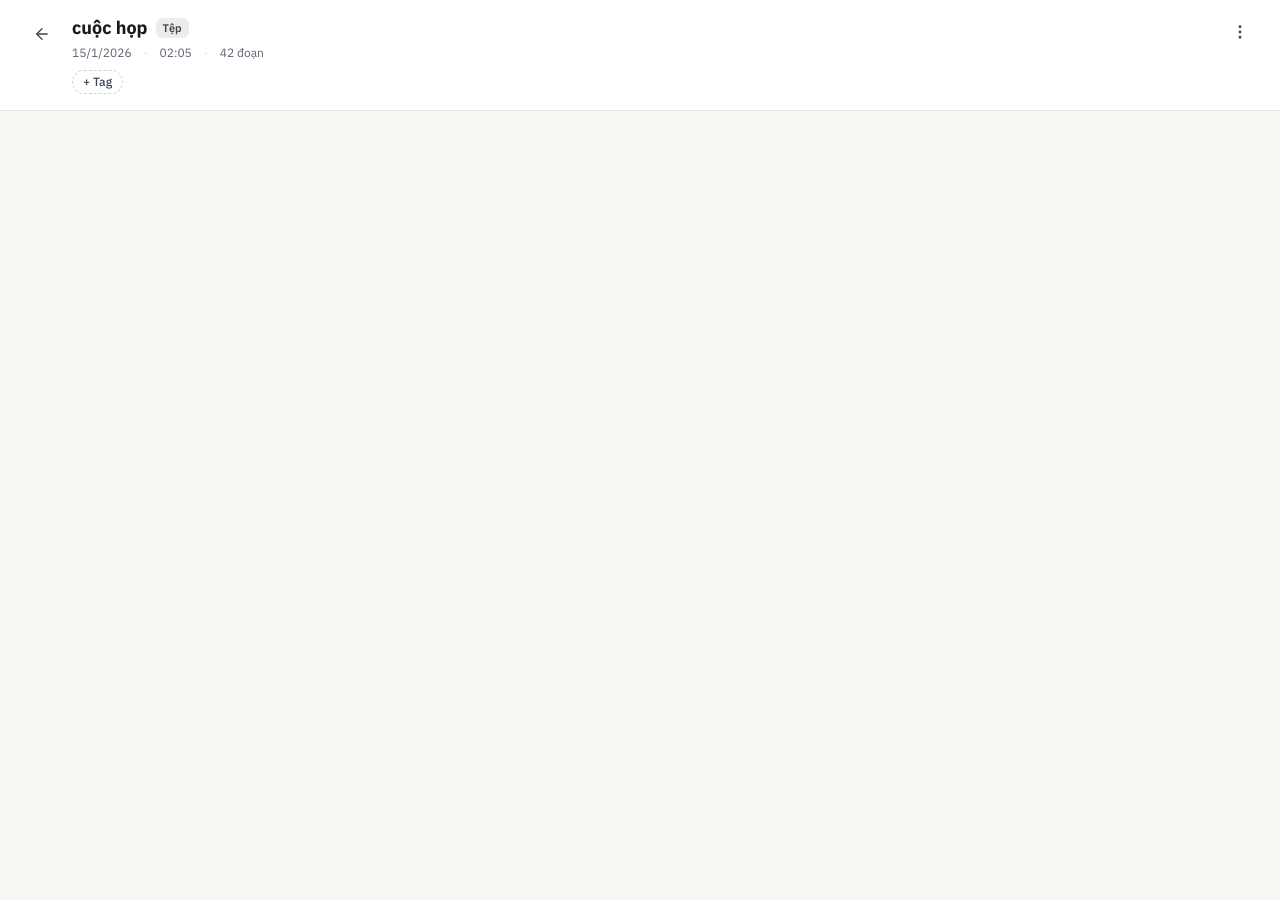
Test: SessionHeader › tags (story 3.2) › clicking "+ Tag" opens the tag picker in assign mode
Click the button "+ Tag": (98, 82) [72,70,123,94]
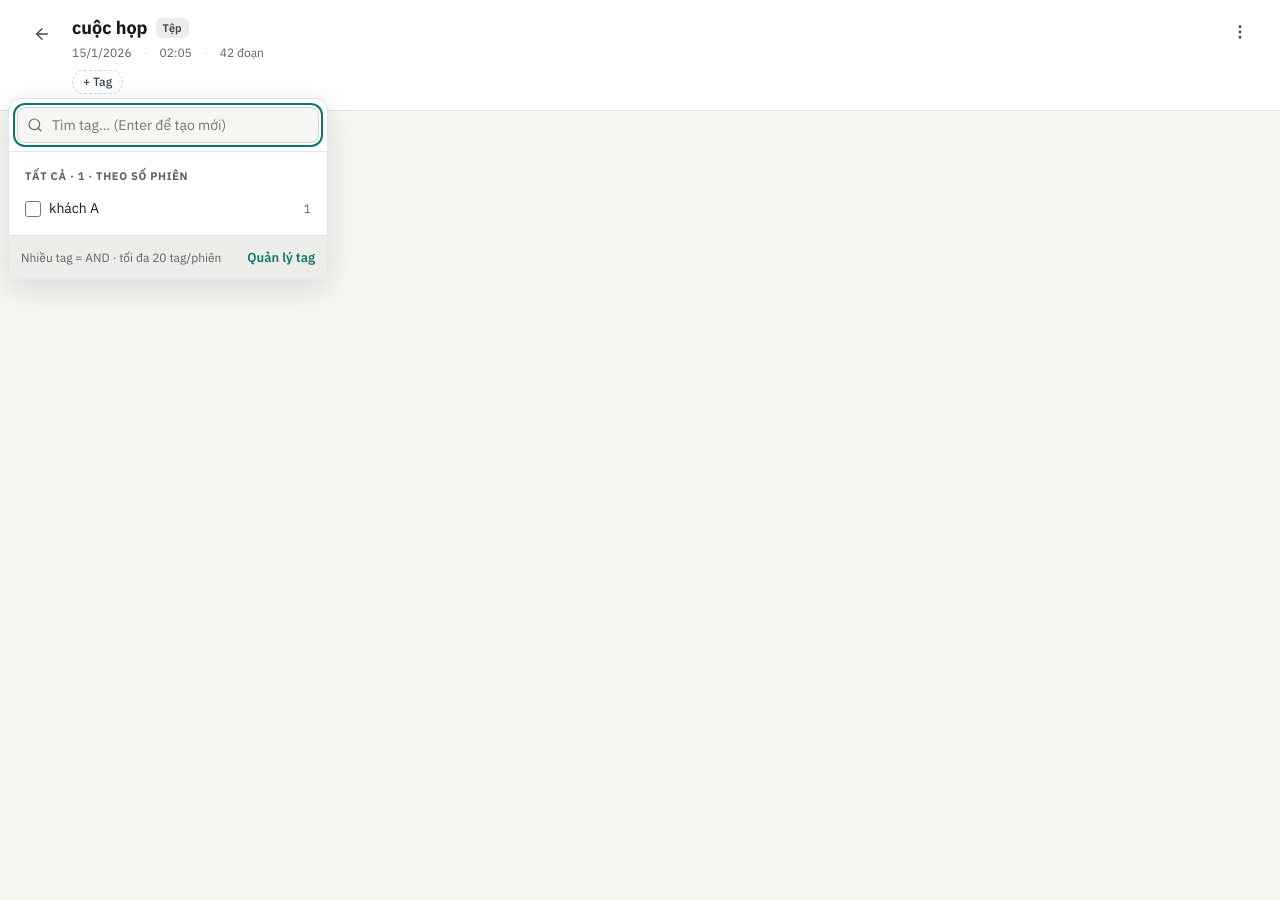
Now the dialog named "Chọn tag cho phiên" is shown, box [8,98,328,280]
